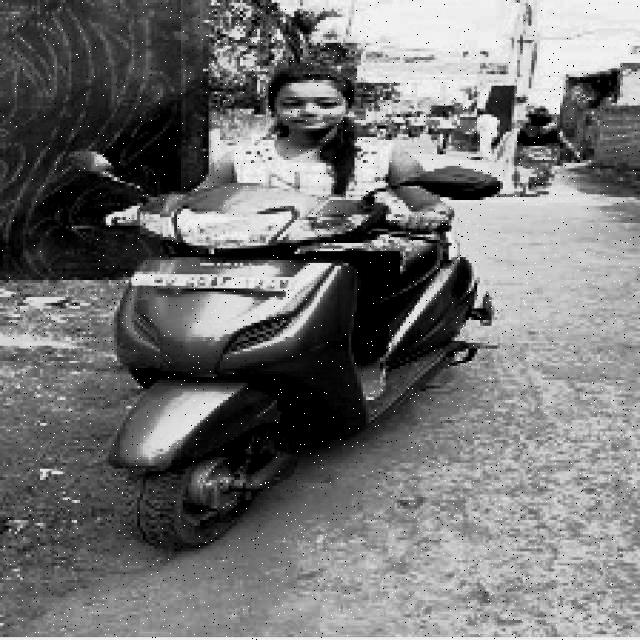Bike: (87, 177, 503, 557)
